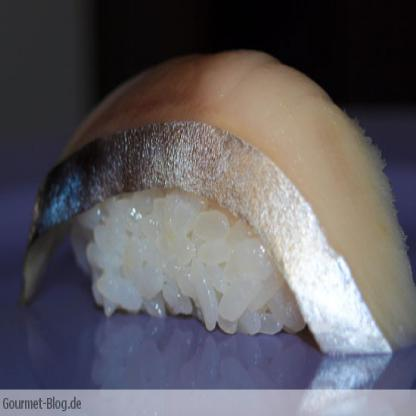saba: (9, 42, 416, 379)
